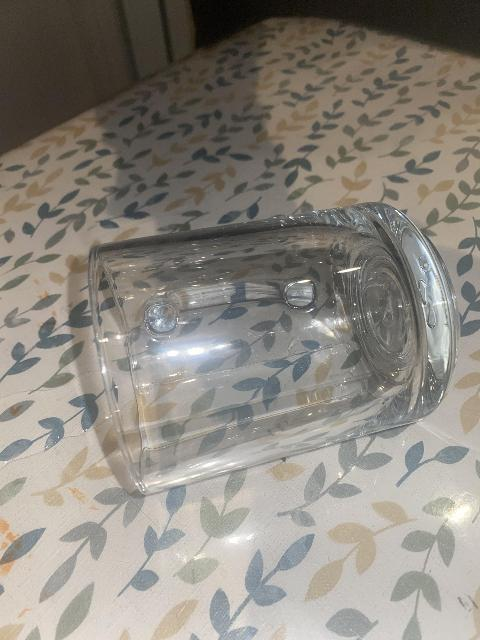Cam: (73, 208, 473, 494)
